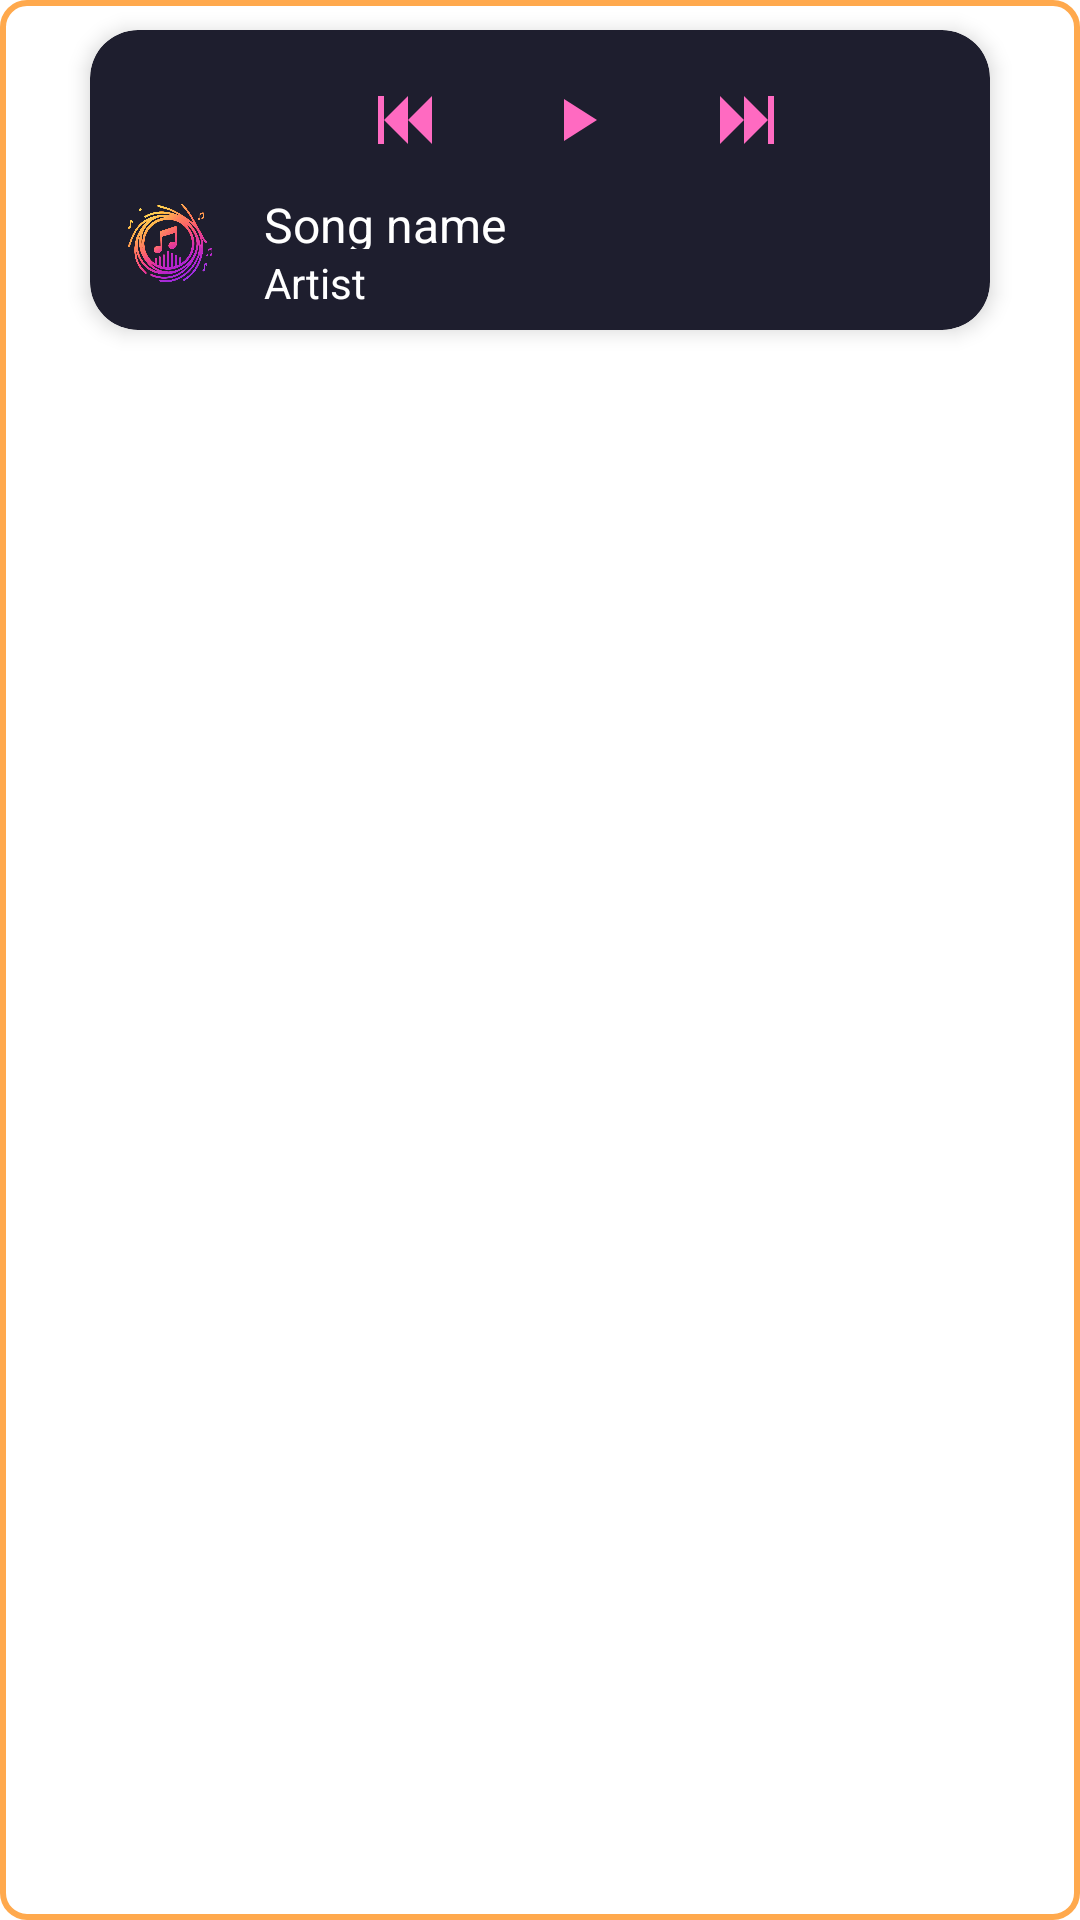

Icons on this 1080px×1920px Android screen, each with the point to tap as point (x, y):
Back: point (405, 120)
Next: point (747, 120)
Play/Pause: point (580, 120)
